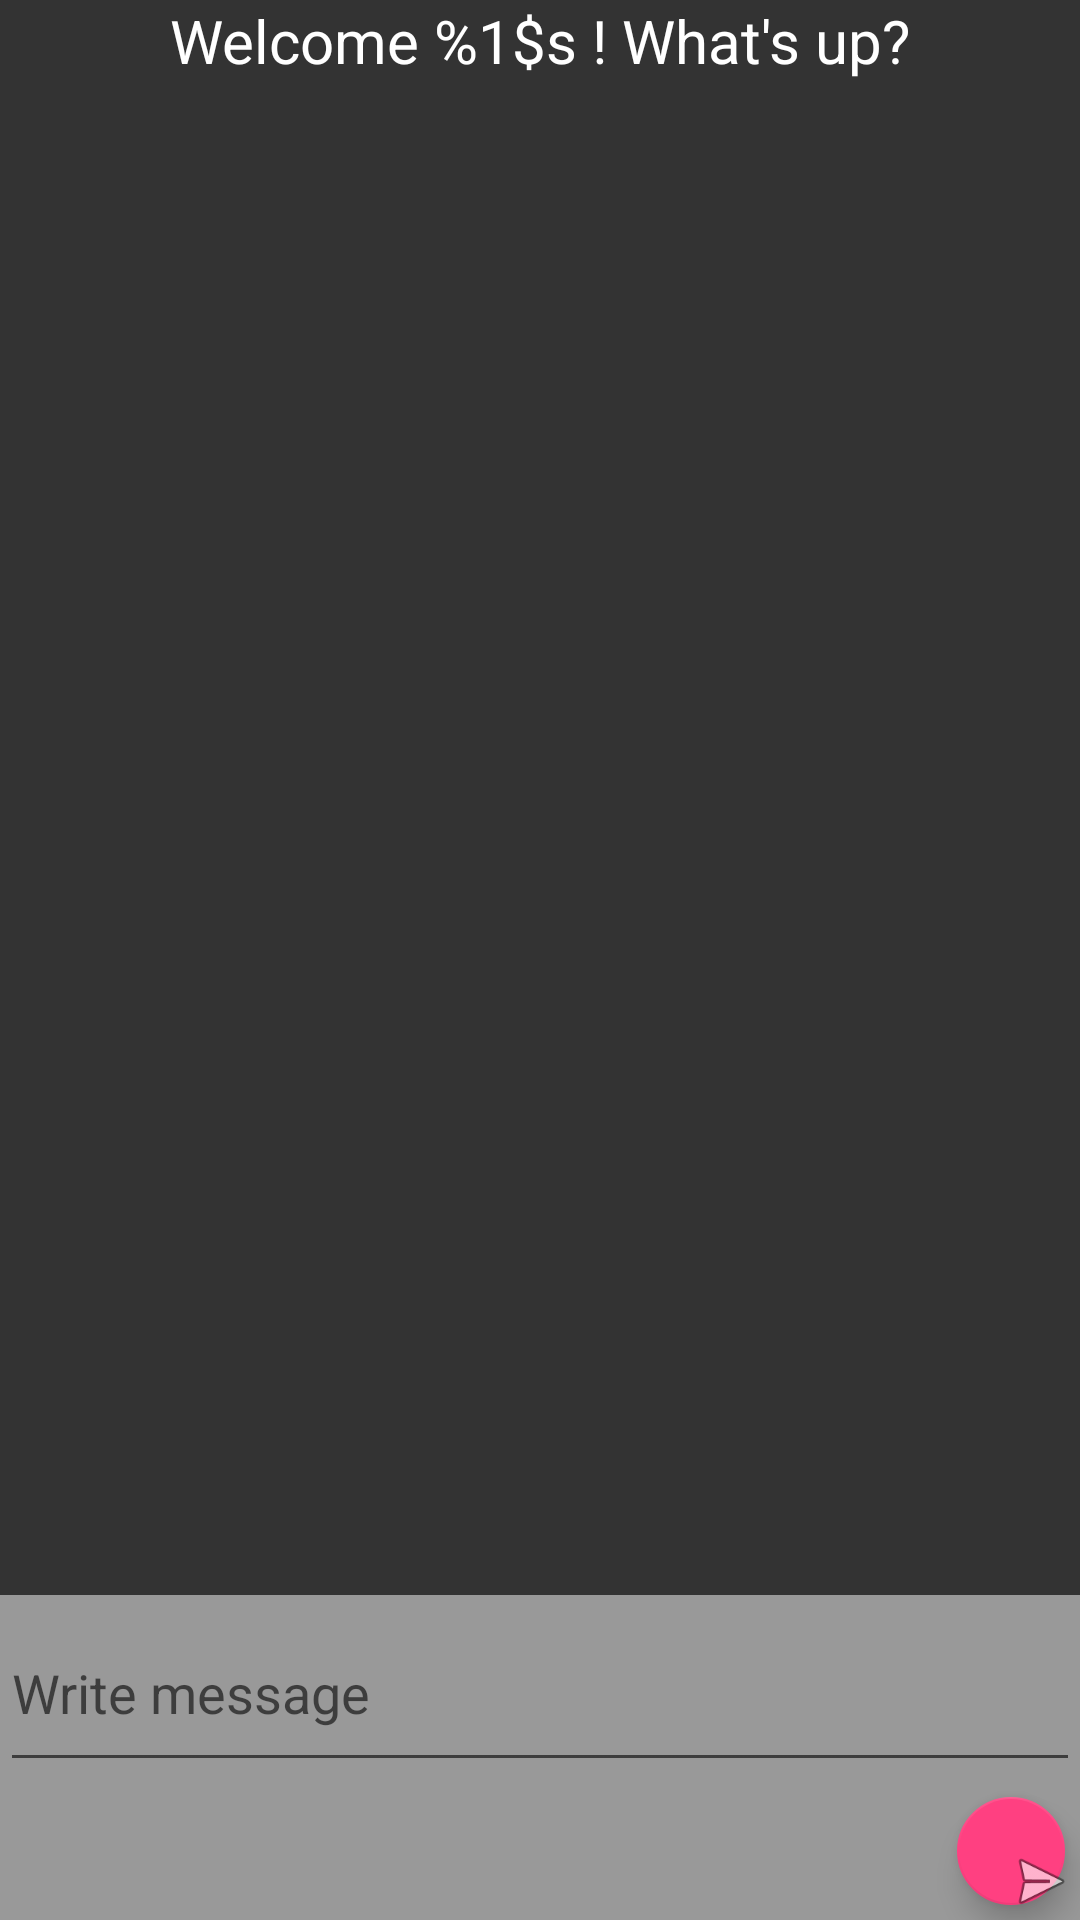

Where to tap for icons on this 1080 × 1920 app screen, as (x,y):
send: (1011,1851)
